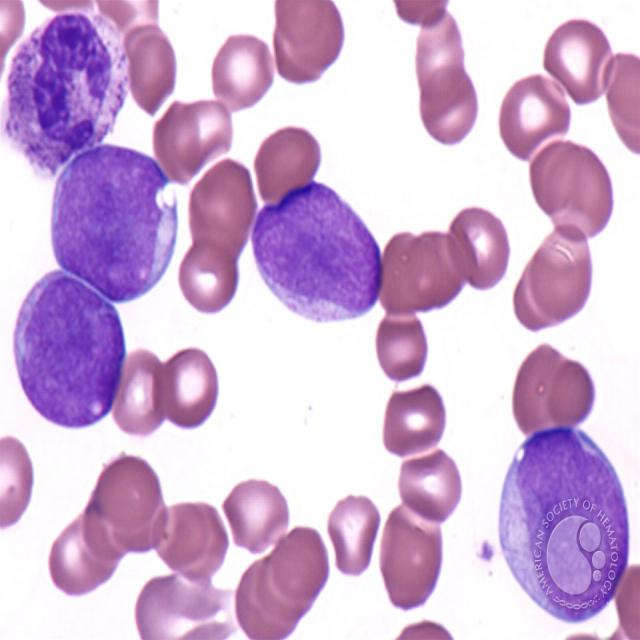ALL Positive Cell: (53, 146, 181, 297), (250, 185, 379, 322), (19, 272, 126, 430), (14, 25, 117, 166), (499, 434, 623, 517)
